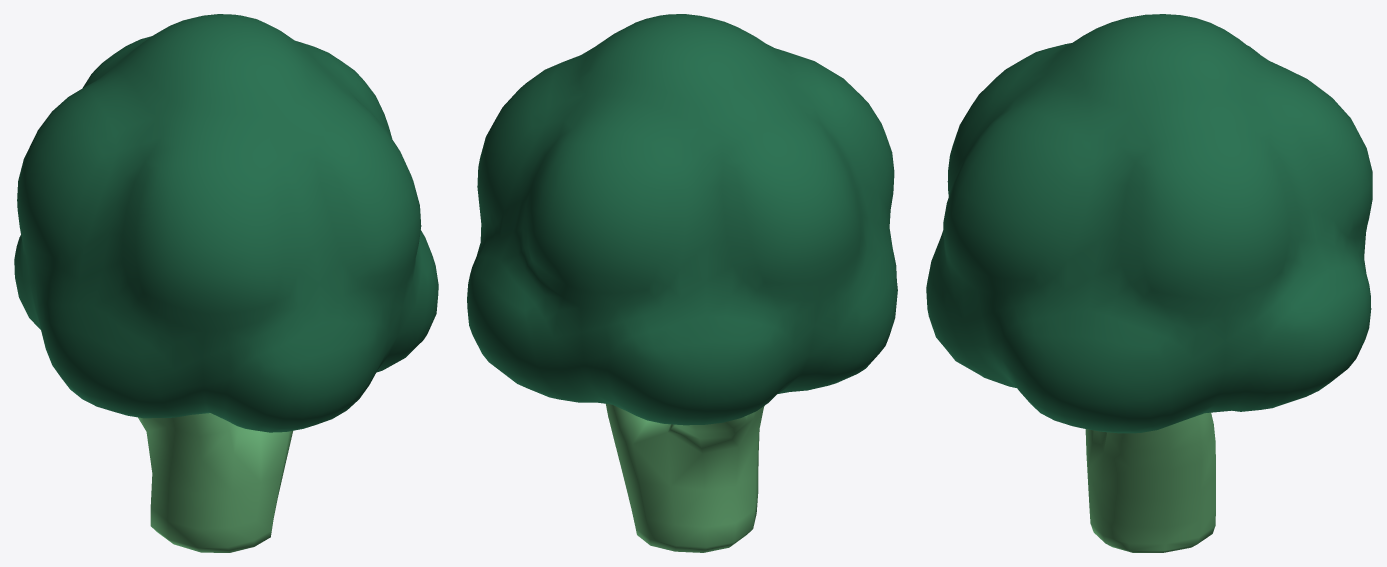
Rendered from Broccoli_01.dae.
3 views of the same model, side by side, from view 1: azimuth 30°, elevation 25°; view 2: azimuth 150°, elevation 25°; view 3: azimuth 270°, elevation 25° (orthographic). The views are drawn at different scales.
Visible parts, largest first — view 1: Broccoli_01_LOD0; view 2: Broccoli_01_LOD0; view 3: Broccoli_01_LOD0.
Boxes of the visible parts, box(x1,y1,x2,y2) form: Broccoli_01_LOD0: box(14, 14, 438, 552); Broccoli_01_LOD0: box(467, 14, 897, 552); Broccoli_01_LOD0: box(926, 14, 1372, 552).
Size of what is drawn, in the model's own units: 4.87 by 5.08 by 6.4.
